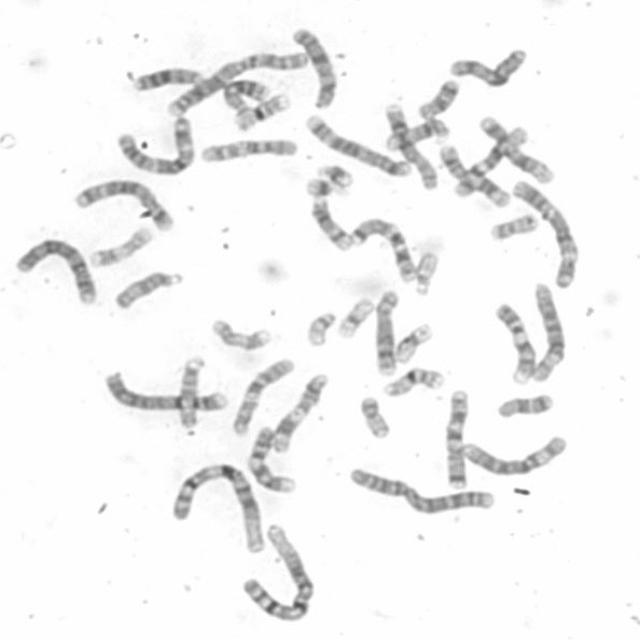A1: (166, 458, 267, 555), (236, 520, 318, 623)
A2: (162, 48, 310, 117), (344, 463, 496, 514)
A3: (507, 174, 581, 290), (111, 113, 197, 177)
B4: (12, 234, 100, 306), (99, 366, 231, 414)
B5: (302, 111, 412, 178), (69, 175, 176, 232)
C10: (228, 354, 298, 438), (196, 134, 299, 165)
C11: (434, 140, 511, 208), (270, 372, 330, 454)
C12: (449, 121, 530, 199), (476, 112, 555, 186)
C6: (456, 432, 570, 478), (526, 277, 567, 383)
C7: (346, 212, 416, 284), (442, 386, 470, 490)
C8: (380, 100, 440, 193), (370, 286, 400, 378)
C9: (491, 300, 537, 384), (244, 424, 298, 494)
D13: (129, 63, 203, 93), (219, 77, 270, 115)
D14: (307, 194, 353, 252), (382, 114, 452, 152)
D15: (111, 266, 186, 310), (173, 352, 207, 430)
E16: (229, 89, 292, 132), (378, 364, 446, 398)
E17: (85, 222, 155, 268), (206, 314, 274, 352)
E18: (414, 76, 460, 121), (490, 390, 555, 420)
F19: (390, 320, 435, 364), (333, 294, 376, 338)
F20: (487, 208, 541, 242), (356, 392, 393, 441)
G21: (312, 160, 354, 192), (302, 175, 349, 198)
G22: (411, 246, 442, 298), (301, 308, 338, 348)
X: (289, 24, 339, 110), (445, 44, 528, 89)
